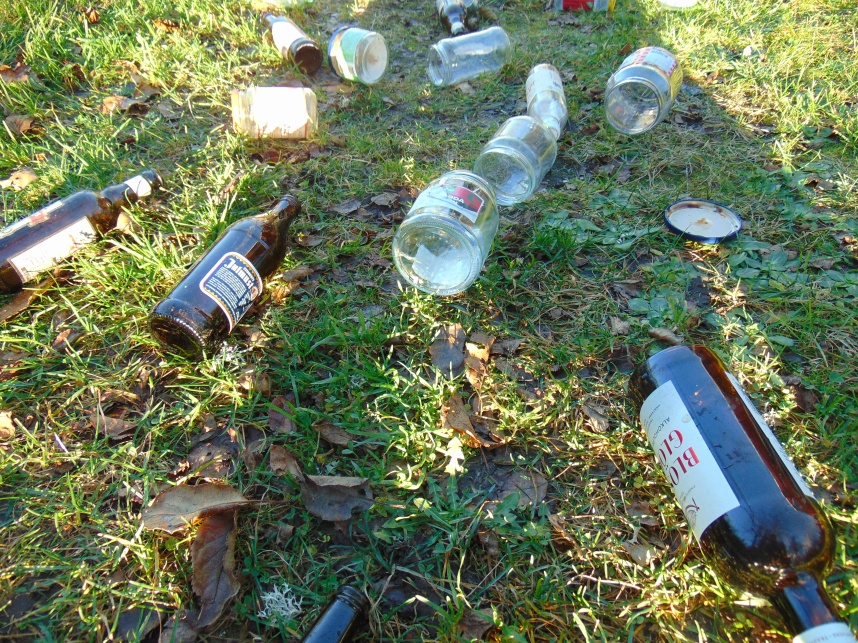glass_bottle: (628, 342, 857, 643), (149, 191, 304, 359), (1, 170, 166, 299), (390, 166, 502, 309), (471, 112, 556, 213), (604, 45, 684, 141), (425, 26, 509, 89), (227, 83, 321, 139), (295, 579, 367, 643), (327, 24, 388, 87), (523, 62, 570, 140), (265, 14, 323, 71), (439, 1, 468, 37), (550, 1, 617, 12)
metal: (663, 198, 742, 244)
